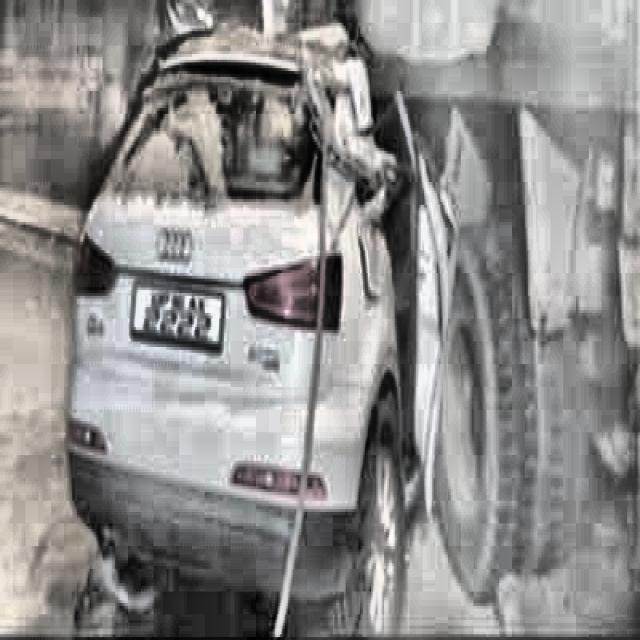license_plate: (132, 281, 222, 353)
